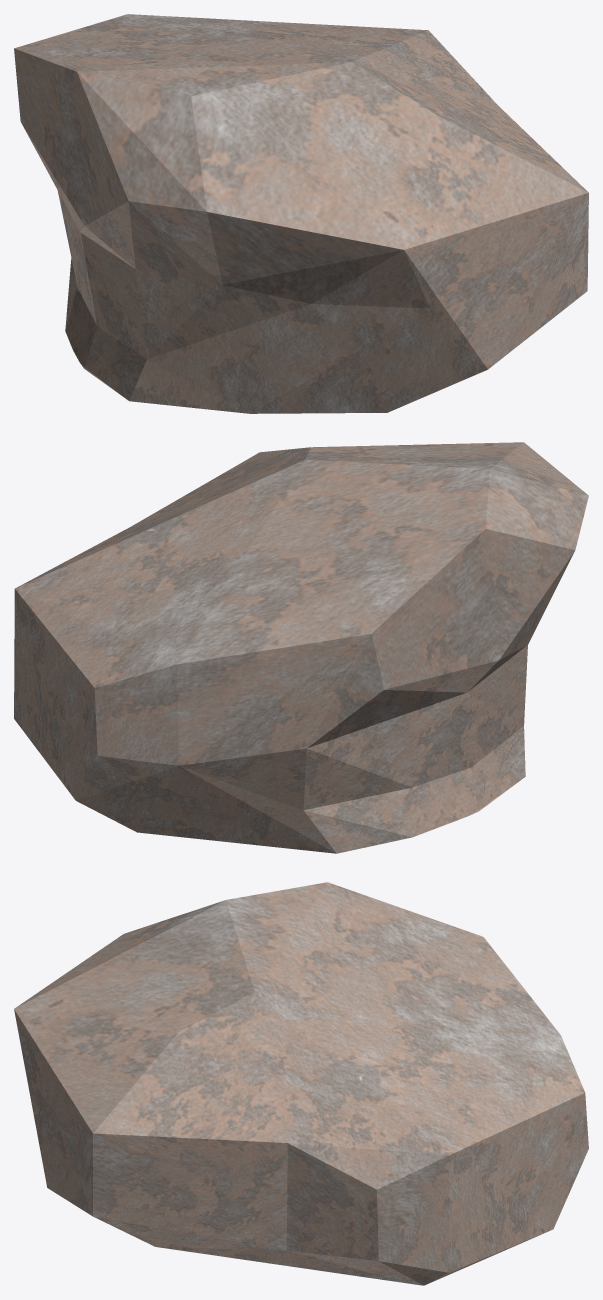
The model's file is stone7.fbx.
The picture shows the model from 3 angles, top to bottom: view 1: azimuth 30°, elevation 25°; view 2: azimuth 150°, elevation 25°; view 3: azimuth 270°, elevation 25°; orthographic projection. The views are drawn at different scales.
Visible parts, largest first — view 1: Group59914; view 2: Group59914; view 3: Group59914.
Boxes of the visible parts, x1,y1,x2,y2 form: Group59914: (14, 14, 588, 413); Group59914: (14, 442, 588, 853); Group59914: (14, 882, 588, 1285).
Bounding box in the file's own units: 233 × 149 × 296.
